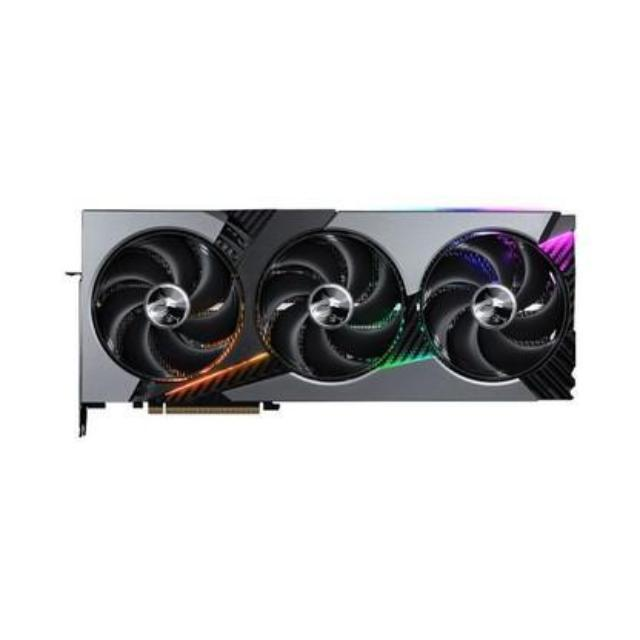GPU: (72, 194, 590, 426)
